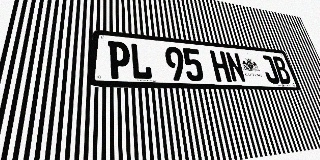5: (182, 48, 205, 81)
9: (164, 46, 187, 81)
B: (271, 56, 293, 84)
H: (209, 50, 232, 82)
J: (259, 55, 281, 84)
L: (130, 43, 153, 80)
N: (224, 52, 247, 83)
P: (108, 41, 131, 79)
